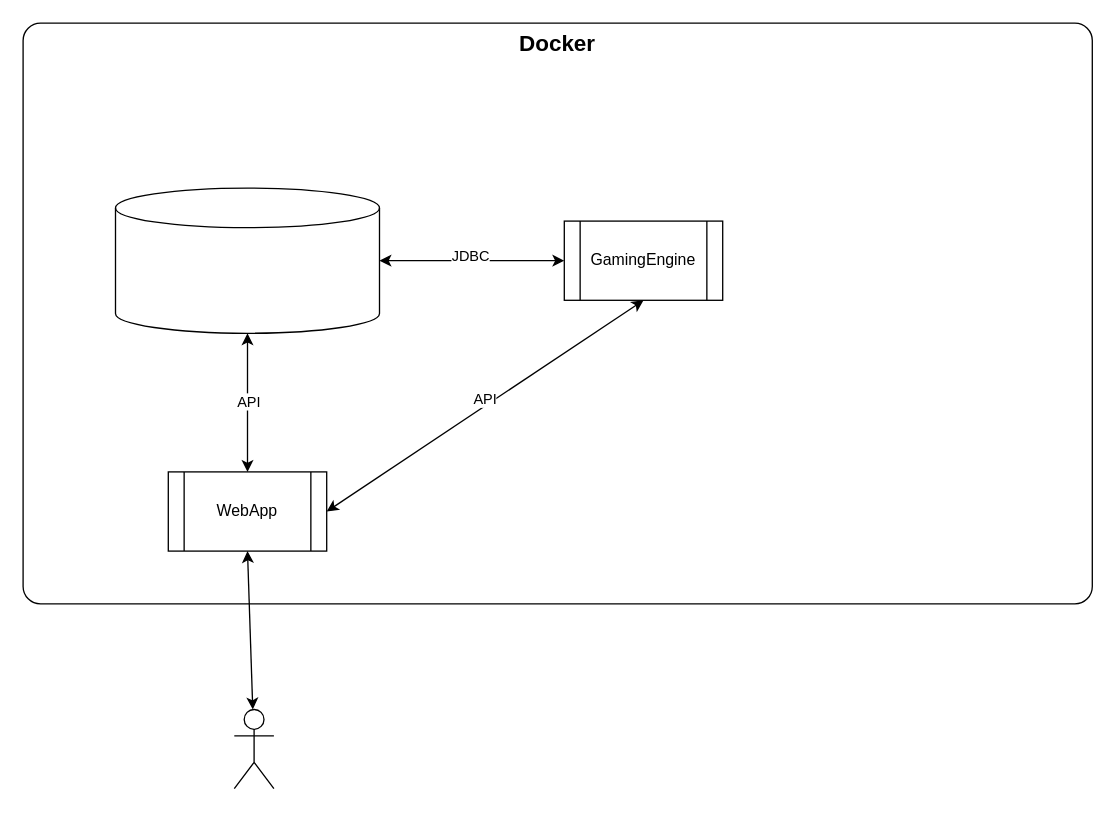
Image size: 1115x840. Some labels were removed from this diagram. The shapes that lost their labels are listed below. From the top down, each one's centre as x and y in pixels, then its label:
At (247,260): "Database".
At (253,748): "User".
